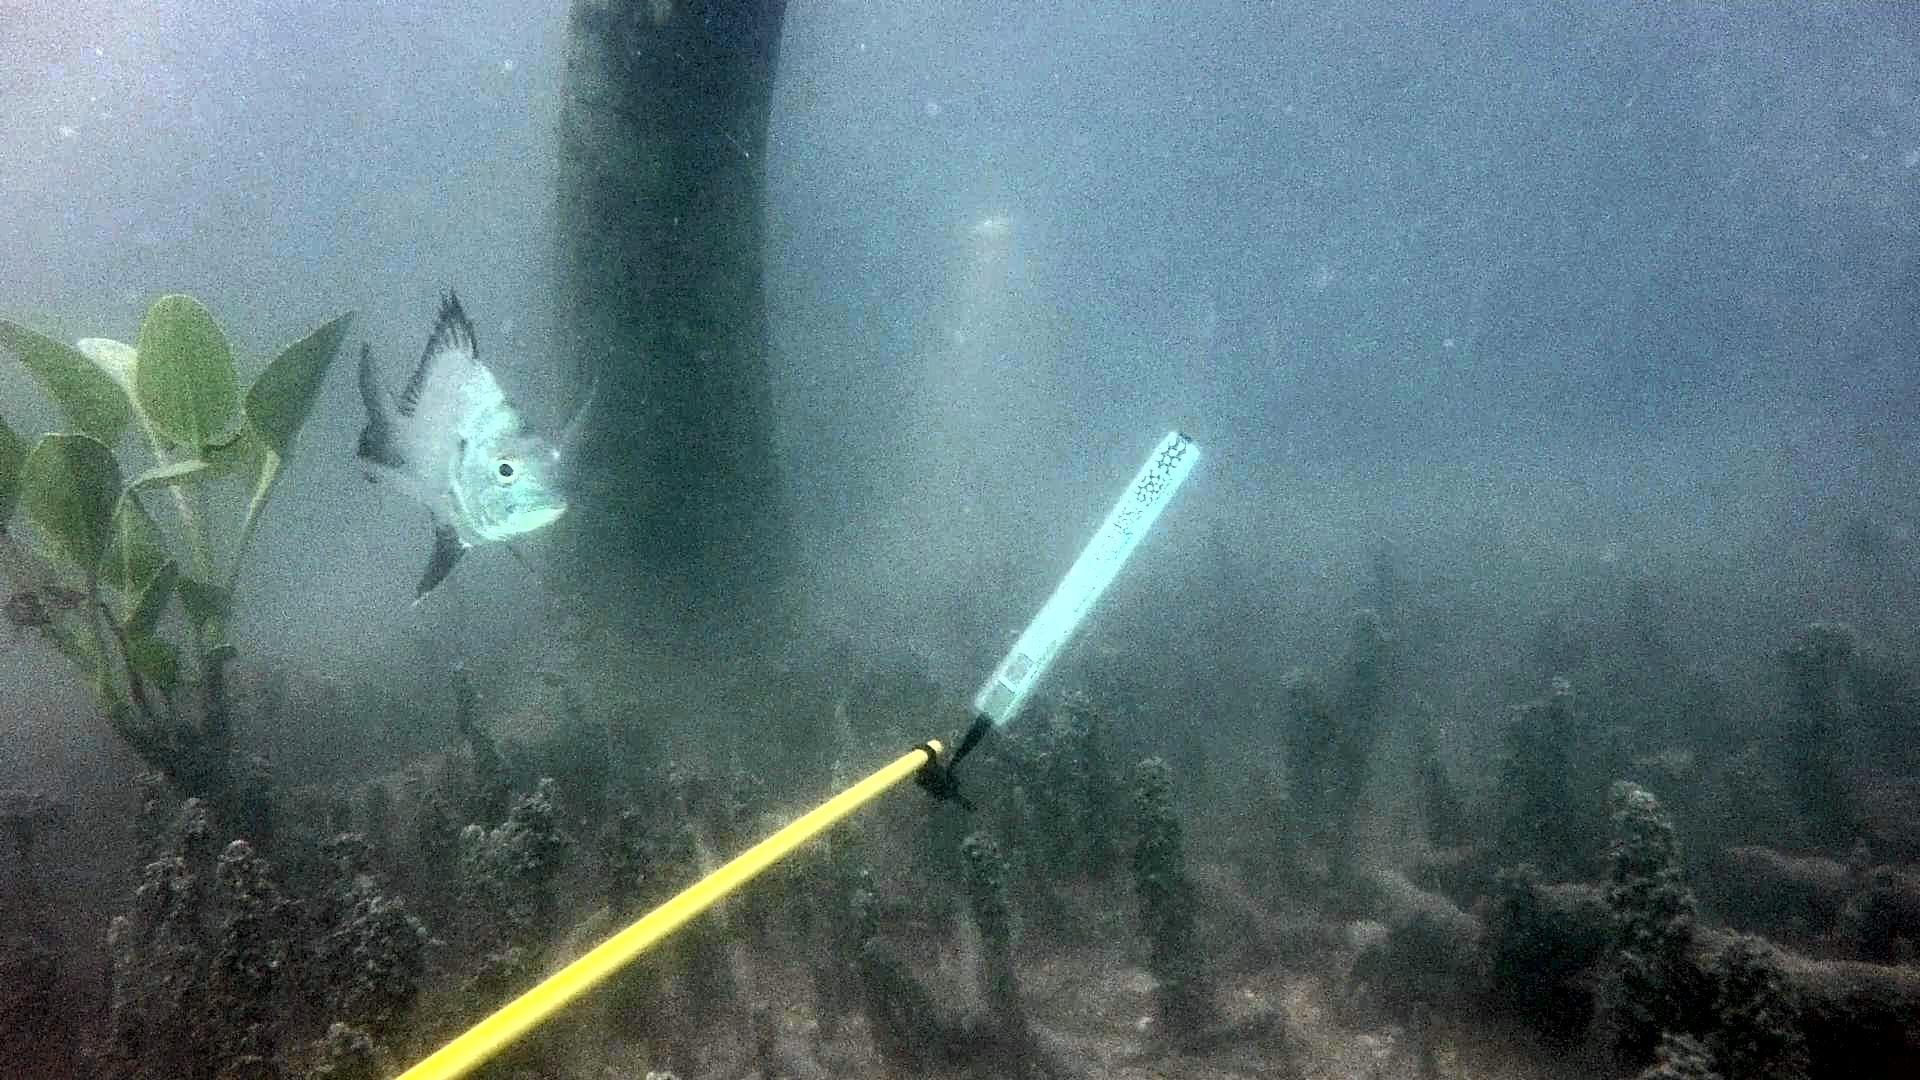acanthopagrus palmaris: (342, 278, 612, 619)
